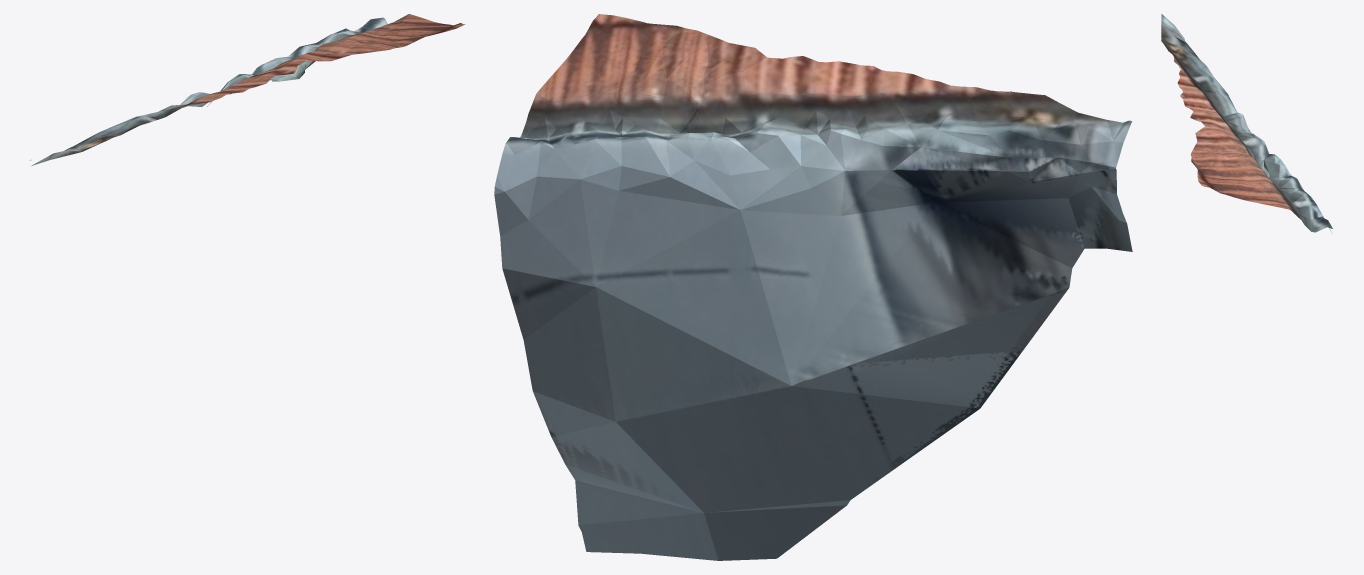
The picture shows the model from 3 angles, left to right: view 1: azimuth 30°, elevation 25°; view 2: azimuth 150°, elevation 25°; view 3: azimuth 270°, elevation 25°; orthographic projection. The views are drawn at different scales.
Size of the model in its own units: 1.67 by 1.67 by 0.7618.
Materials: 3 (3 with a texture image).
